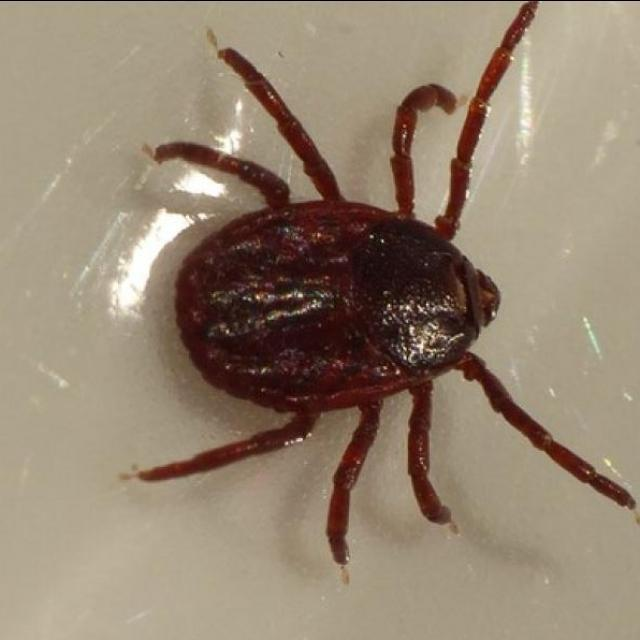Rhipicephalus Sanguineus-F: (133, 0, 634, 569)
